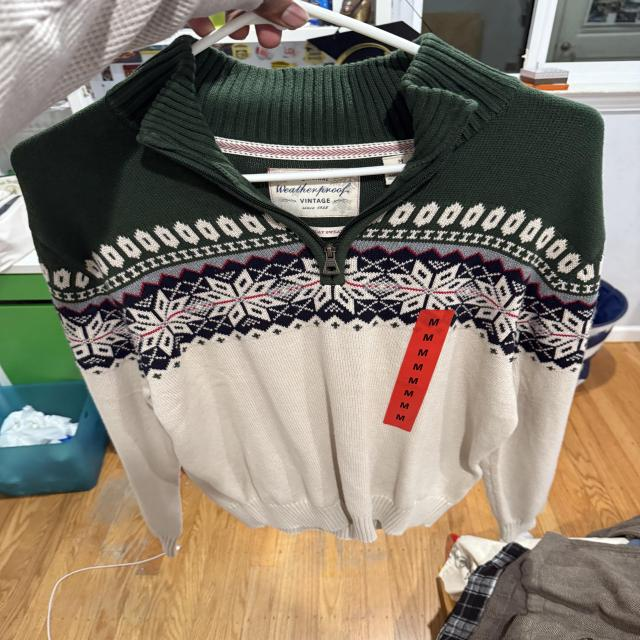back_tag: (268, 165, 366, 220)
